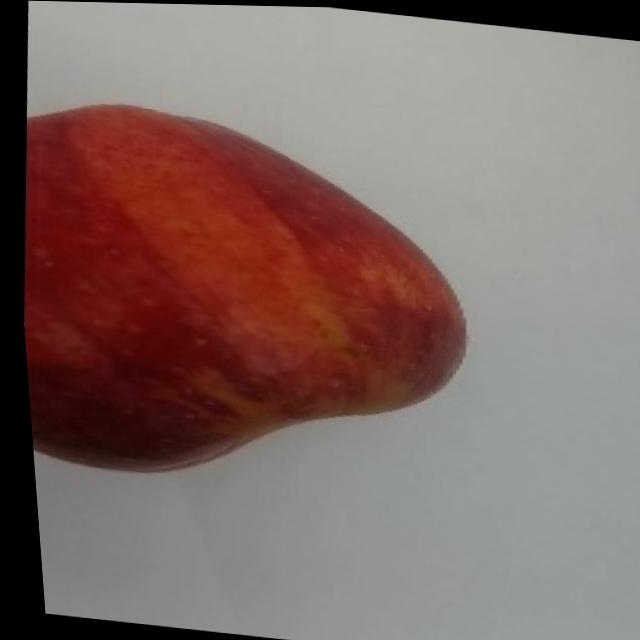Apple: (5, 92, 492, 513)
